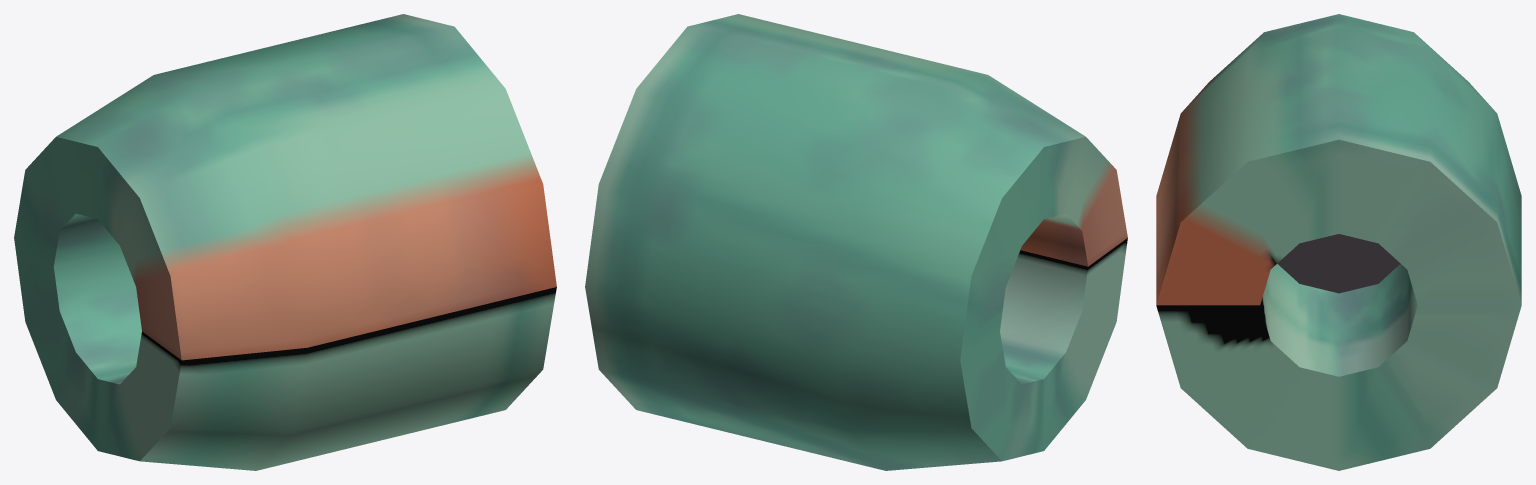
File: rifle_muzzle.fbx
The picture shows the model from 3 angles, left to right: view 1: azimuth 30°, elevation 25°; view 2: azimuth 150°, elevation 25°; view 3: azimuth 270°, elevation 25°; orthographic projection. The views are drawn at different scales.
Parts seen in each view (by area): view 1: rifle_muzzle; view 2: rifle_muzzle; view 3: rifle_muzzle.
Part boxes in pixels (x1,y1,x2,y2): rifle_muzzle: (14, 14, 556, 470); rifle_muzzle: (585, 14, 1127, 470); rifle_muzzle: (1156, 14, 1521, 470).
Size of the model in its own units: 0.105 by 0.1043 by 0.1043.
